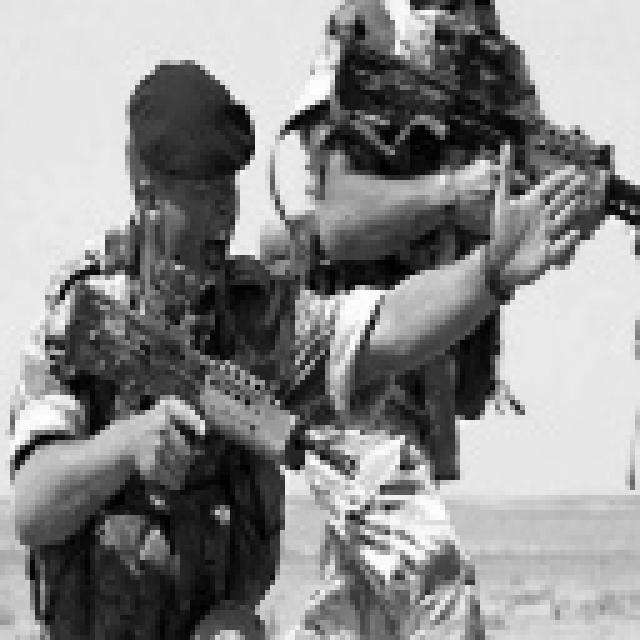Rifle: (41, 238, 381, 545), (300, 0, 640, 217)
